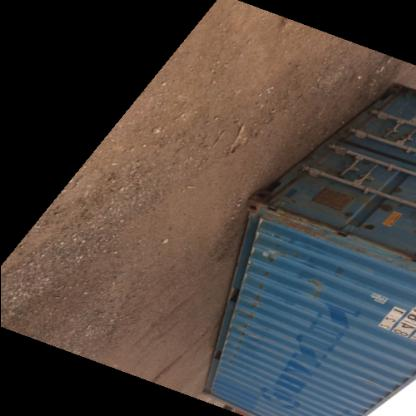Damage: (224, 249, 278, 370), (332, 228, 414, 256), (263, 202, 335, 233), (301, 144, 351, 170), (300, 268, 330, 309), (389, 247, 413, 275), (372, 198, 400, 218), (360, 220, 382, 237), (340, 208, 354, 224)
